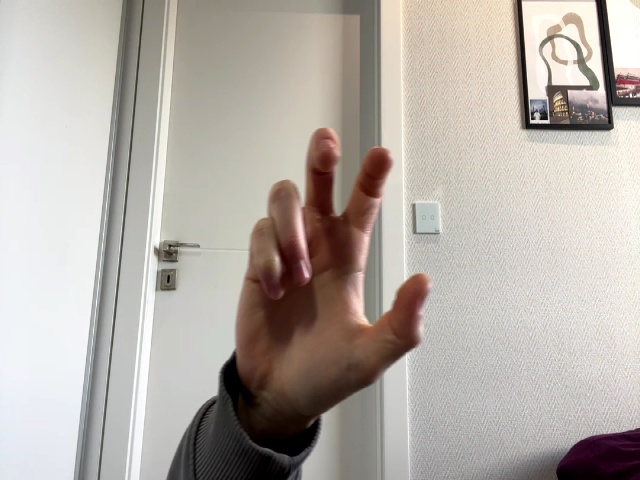CH: (237, 128, 432, 426)
